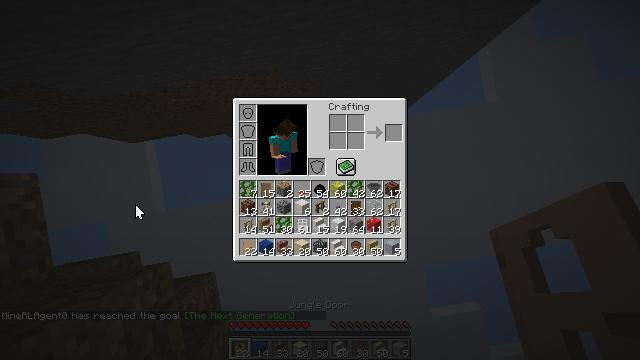cursor: (204, 135, 220, 145)
